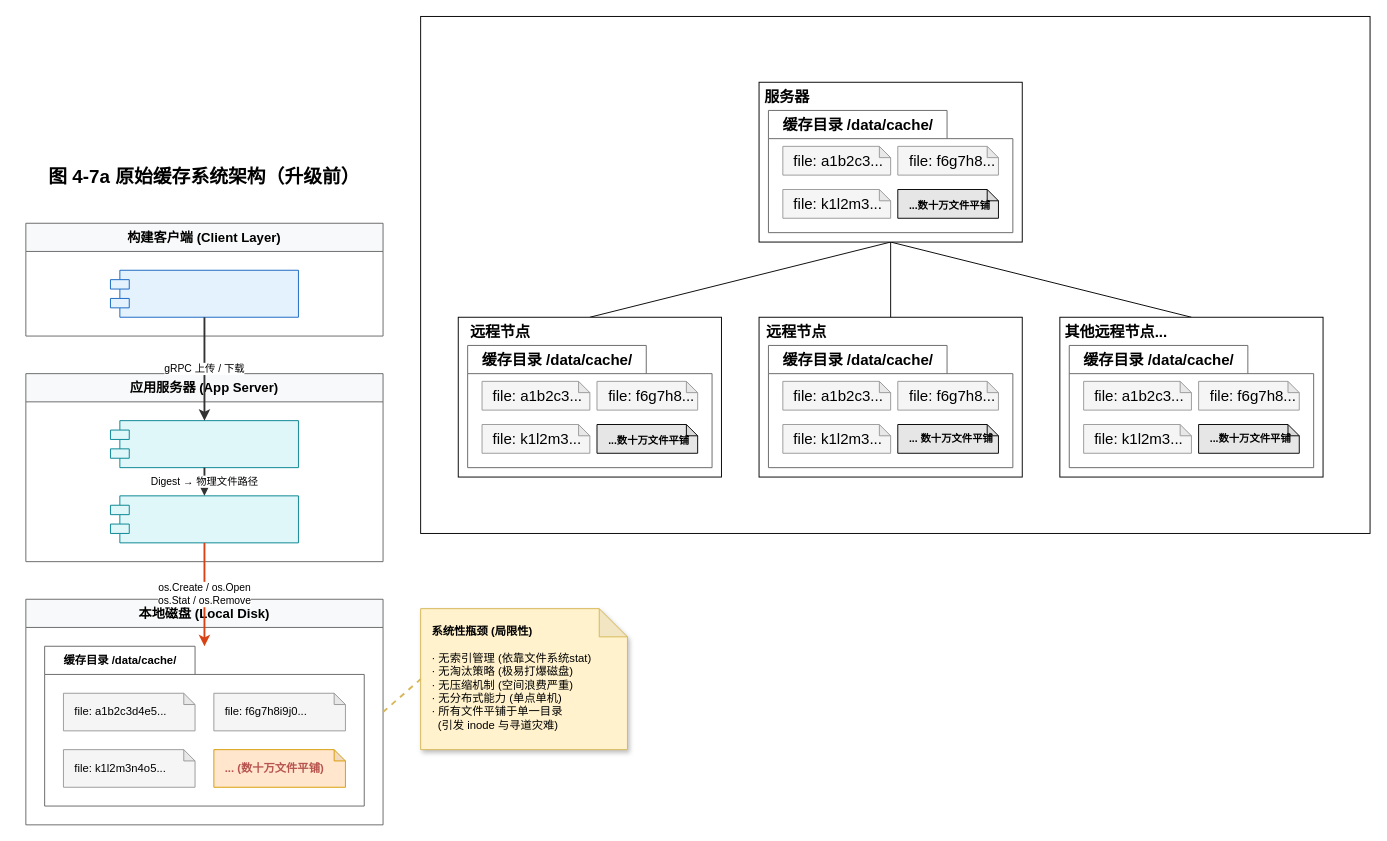
Some shapes in this 1387 by 841 pixel diagram are drawn without their labels. The shapes that lost their labels are listed below. From the top down, each one's centre as x and y in pixels, then its label:
the point at 204,293: Bazel / Ninja 客户端
the point at 204,444: gRPC API (CAS / AC / ByteStream)
the point at 204,519: 哈希路径映射 hash → /data/cache/{hash}
